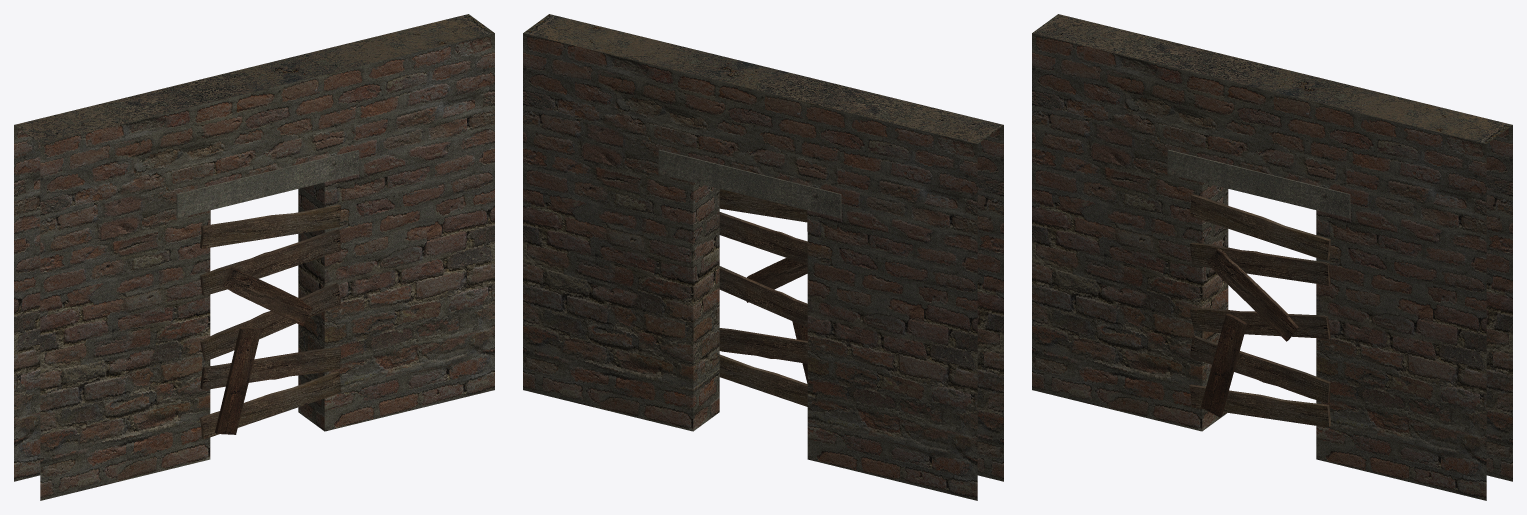
File: doorway_hr_3_regular.glb
The picture shows the model from 3 angles, left to right: view 1: azimuth 30°, elevation 25°; view 2: azimuth 150°, elevation 25°; view 3: azimuth 330°, elevation 25°; orthographic projection.
Parts seen in each view (by area): view 1: doorway_hr_3_regular; view 2: doorway_hr_3_regular; view 3: doorway_hr_3_regular.
Boxes of the visible parts, box(x1,y1,x2,y2) form: doorway_hr_3_regular: box(14, 14, 494, 500); doorway_hr_3_regular: box(523, 14, 1003, 500); doorway_hr_3_regular: box(1032, 14, 1512, 500).
Bounding box in the file's own units: 4 × 3 × 0.47.
4 materials, 4 textured.
